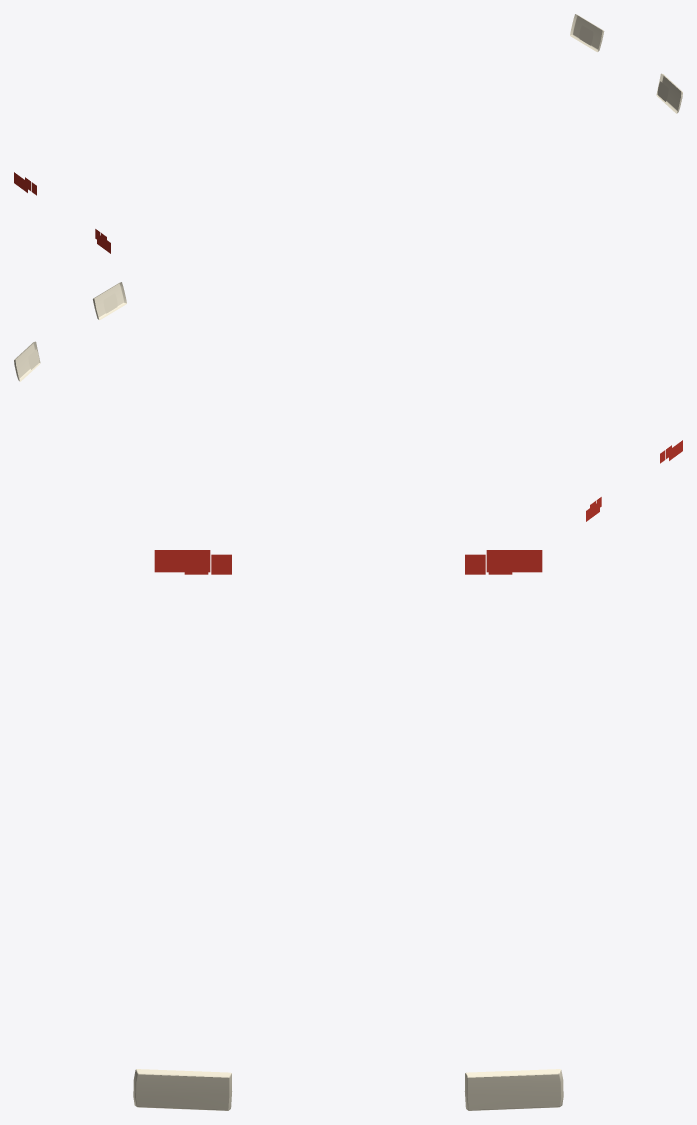
Rendered from vis2345_lights.obj.
The picture shows the model from 3 angles, top to bottom: view 1: azimuth 30°, elevation 25°; view 2: azimuth 150°, elevation 25°; view 3: azimuth 270°, elevation 25°; orthographic projection. The views are drawn at different scales.
Parts seen in each view (by area): view 1: vis2345_Headlight, vis2345_Taillight; view 2: vis2345_Headlight, vis2345_Taillight; view 3: vis2345_Headlight, vis2345_Taillight.
Part boxes in pixels (x1,y1,x2,y2): vis2345_Headlight: [570, 14, 682, 113]; vis2345_Taillight: [14, 172, 110, 253]; vis2345_Headlight: [14, 282, 126, 381]; vis2345_Taillight: [586, 440, 682, 521]; vis2345_Headlight: [133, 1069, 563, 1110]; vis2345_Taillight: [154, 550, 542, 574].
Size of the model in its own units: 4.29 by 0.1989 by 1.4.
2 materials, 2 textured.
